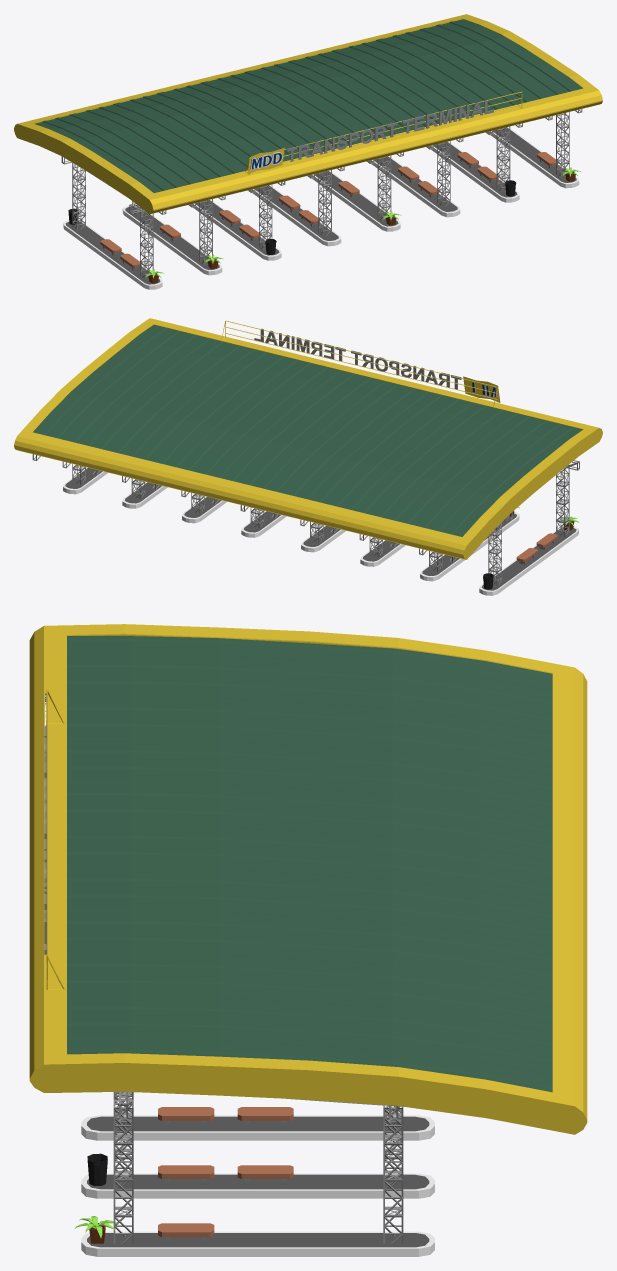
The model's file is Terminal_CanopyFINAL.glb.
3 views of the same model, one above another, from view 1: azimuth 30°, elevation 25°; view 2: azimuth 150°, elevation 25°; view 3: azimuth 270°, elevation 25° (orthographic). The views are drawn at different scales.
Visible parts, largest first — view 1: roofing, canopy, concrete platform, vertical_truss, letters, bench.001, bench, vertical_truss.001, signage_mount; view 2: roofing, canopy, concrete platform, vertical_truss.001, letters, signage_mount, vertical_truss, Cube.002, mounting_plate; view 3: roofing, canopy, concrete platform, bench, vertical_truss, vertical_truss.001, bench.001.
Part boxes in pixels (<box>): roofing: <box>35,19,582,192</box>; canopy: <box>14,14,602,214</box>; concrete platform: <box>63,127,579,289</box>; vertical_truss: <box>140,112,569,279</box>; letters: <box>286,100,493,161</box>; bench.001: <box>100,152,478,255</box>; bench: <box>120,152,558,270</box>; vertical_truss.001: <box>72,163,145,230</box>; signage_mount: <box>245,91,522,174</box>; roofing: <box>33,325,582,536</box>; canopy: <box>14,318,602,559</box>; concrete platform: <box>63,467,578,595</box>; vertical_truss.001: <box>72,464,501,585</box>; letters: <box>254,328,461,389</box>; signage_mount: <box>221,320,498,406</box>; vertical_truss: <box>504,467,569,536</box>; Cube.002: <box>32,454,456,562</box>; mounting_plate: <box>463,376,500,402</box>; roofing: <box>67,636,552,1092</box>; canopy: <box>29,624,587,1134</box>; concrete platform: <box>81,1115,434,1256</box>; bench: <box>158,1107,214,1243</box>; vertical_truss: <box>113,1091,133,1244</box>; vertical_truss.001: <box>383,1105,403,1244</box>; bench.001: <box>237,1107,293,1184</box>.
Bounding box in the file's own units: 11.55 × 2.93 × 6.2.
12 materials, 2 textured.
